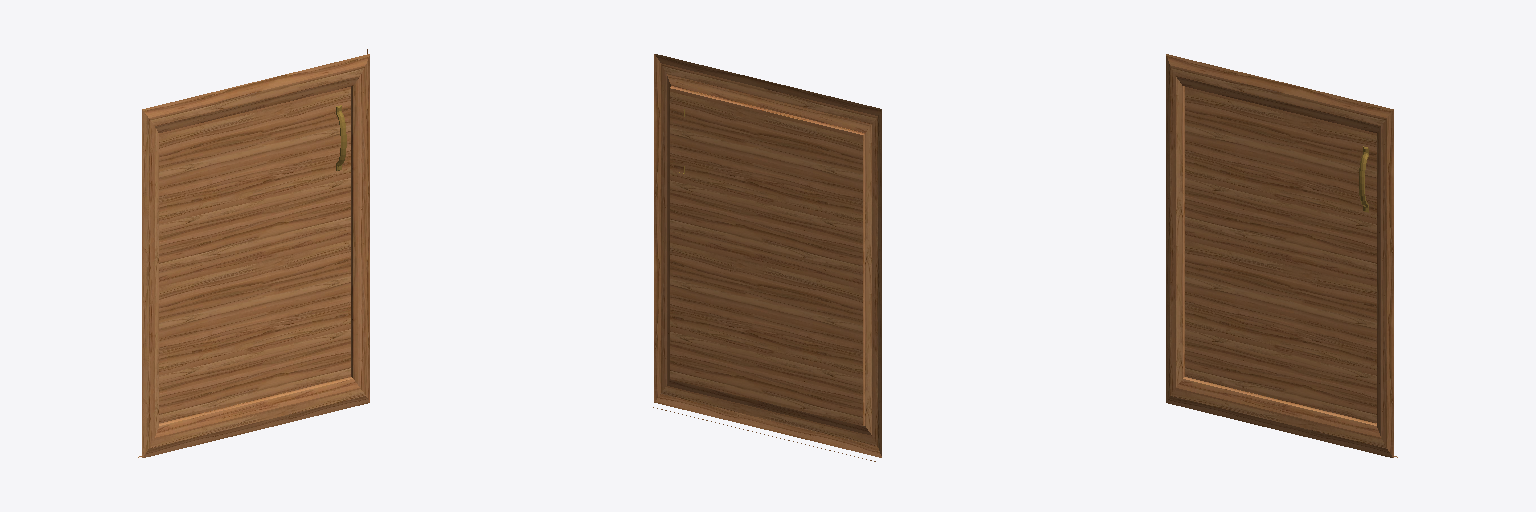
The picture shows the model from 3 angles: view 1: azimuth 30°, elevation 25°; view 2: azimuth 150°, elevation 25°; view 3: azimuth 330°, elevation 25°; orthographic projection.
Visible parts, largest first — view 1: Part6; view 2: Part6; view 3: Part6.
Part boxes in pixels (x1,y1,x2,y2): Part6: (138, 49, 369, 457); Part6: (653, 54, 881, 461); Part6: (1166, 54, 1397, 457).
Bounding box in the file's own units: 0.398 × 0.5826 × 0.0225.
Materials: 2 (1 with a texture image).